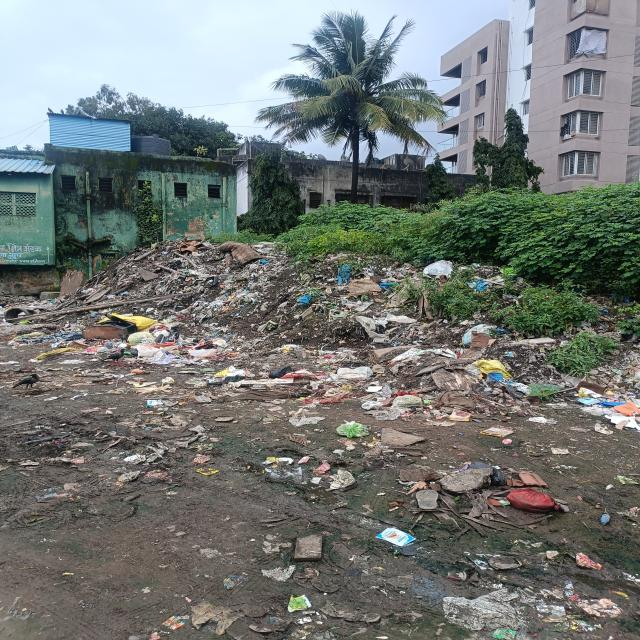garbage: (125, 252, 640, 415), (6, 254, 126, 403)
